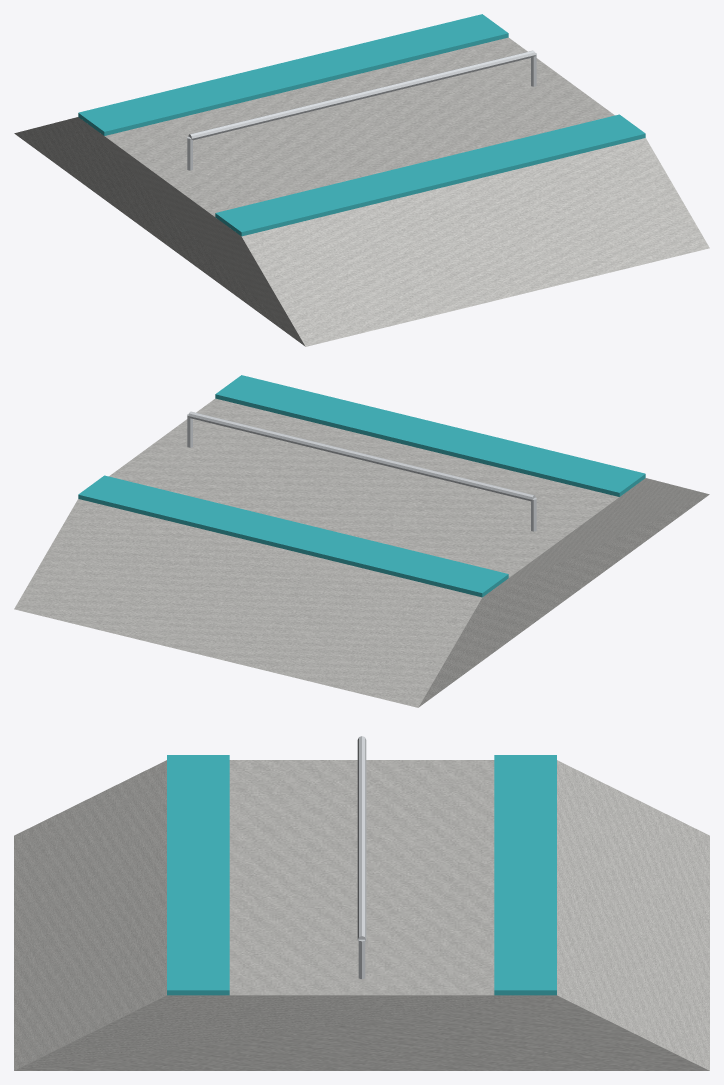
File: skate-park-and-street-sports-funbox-with-grind-rail-b6c3397e__33518.glb
3 renders of one model, top to bottom at view 1: azimuth 30°, elevation 25°; view 2: azimuth 150°, elevation 25°; view 3: azimuth 270°, elevation 25°, orthographic. The views are drawn at different scales.
Visible parts, largest first — view 1: funbox-with-grind-rail-concrete, funbox-with-grind-rail-teal, funbox-with-grind-rail-steel; view 2: funbox-with-grind-rail-concrete, funbox-with-grind-rail-teal, funbox-with-grind-rail-steel; view 3: funbox-with-grind-rail-concrete, funbox-with-grind-rail-teal, funbox-with-grind-rail-steel.
Part boxes in pixels (x1,y1,x2,y2): funbox-with-grind-rail-concrete: (14, 37, 709, 346); funbox-with-grind-rail-teal: (78, 14, 645, 236); funbox-with-grind-rail-steel: (187, 50, 536, 170); funbox-with-grind-rail-concrete: (14, 398, 709, 707); funbox-with-grind-rail-teal: (78, 375, 645, 597); funbox-with-grind-rail-steel: (187, 411, 536, 531); funbox-with-grind-rail-concrete: (14, 760, 709, 1070); funbox-with-grind-rail-teal: (167, 755, 556, 995); funbox-with-grind-rail-steel: (357, 736, 366, 978).
Bounding box in the file's own units: 4 × 0.93 × 5.
3 materials, 1 textured.
